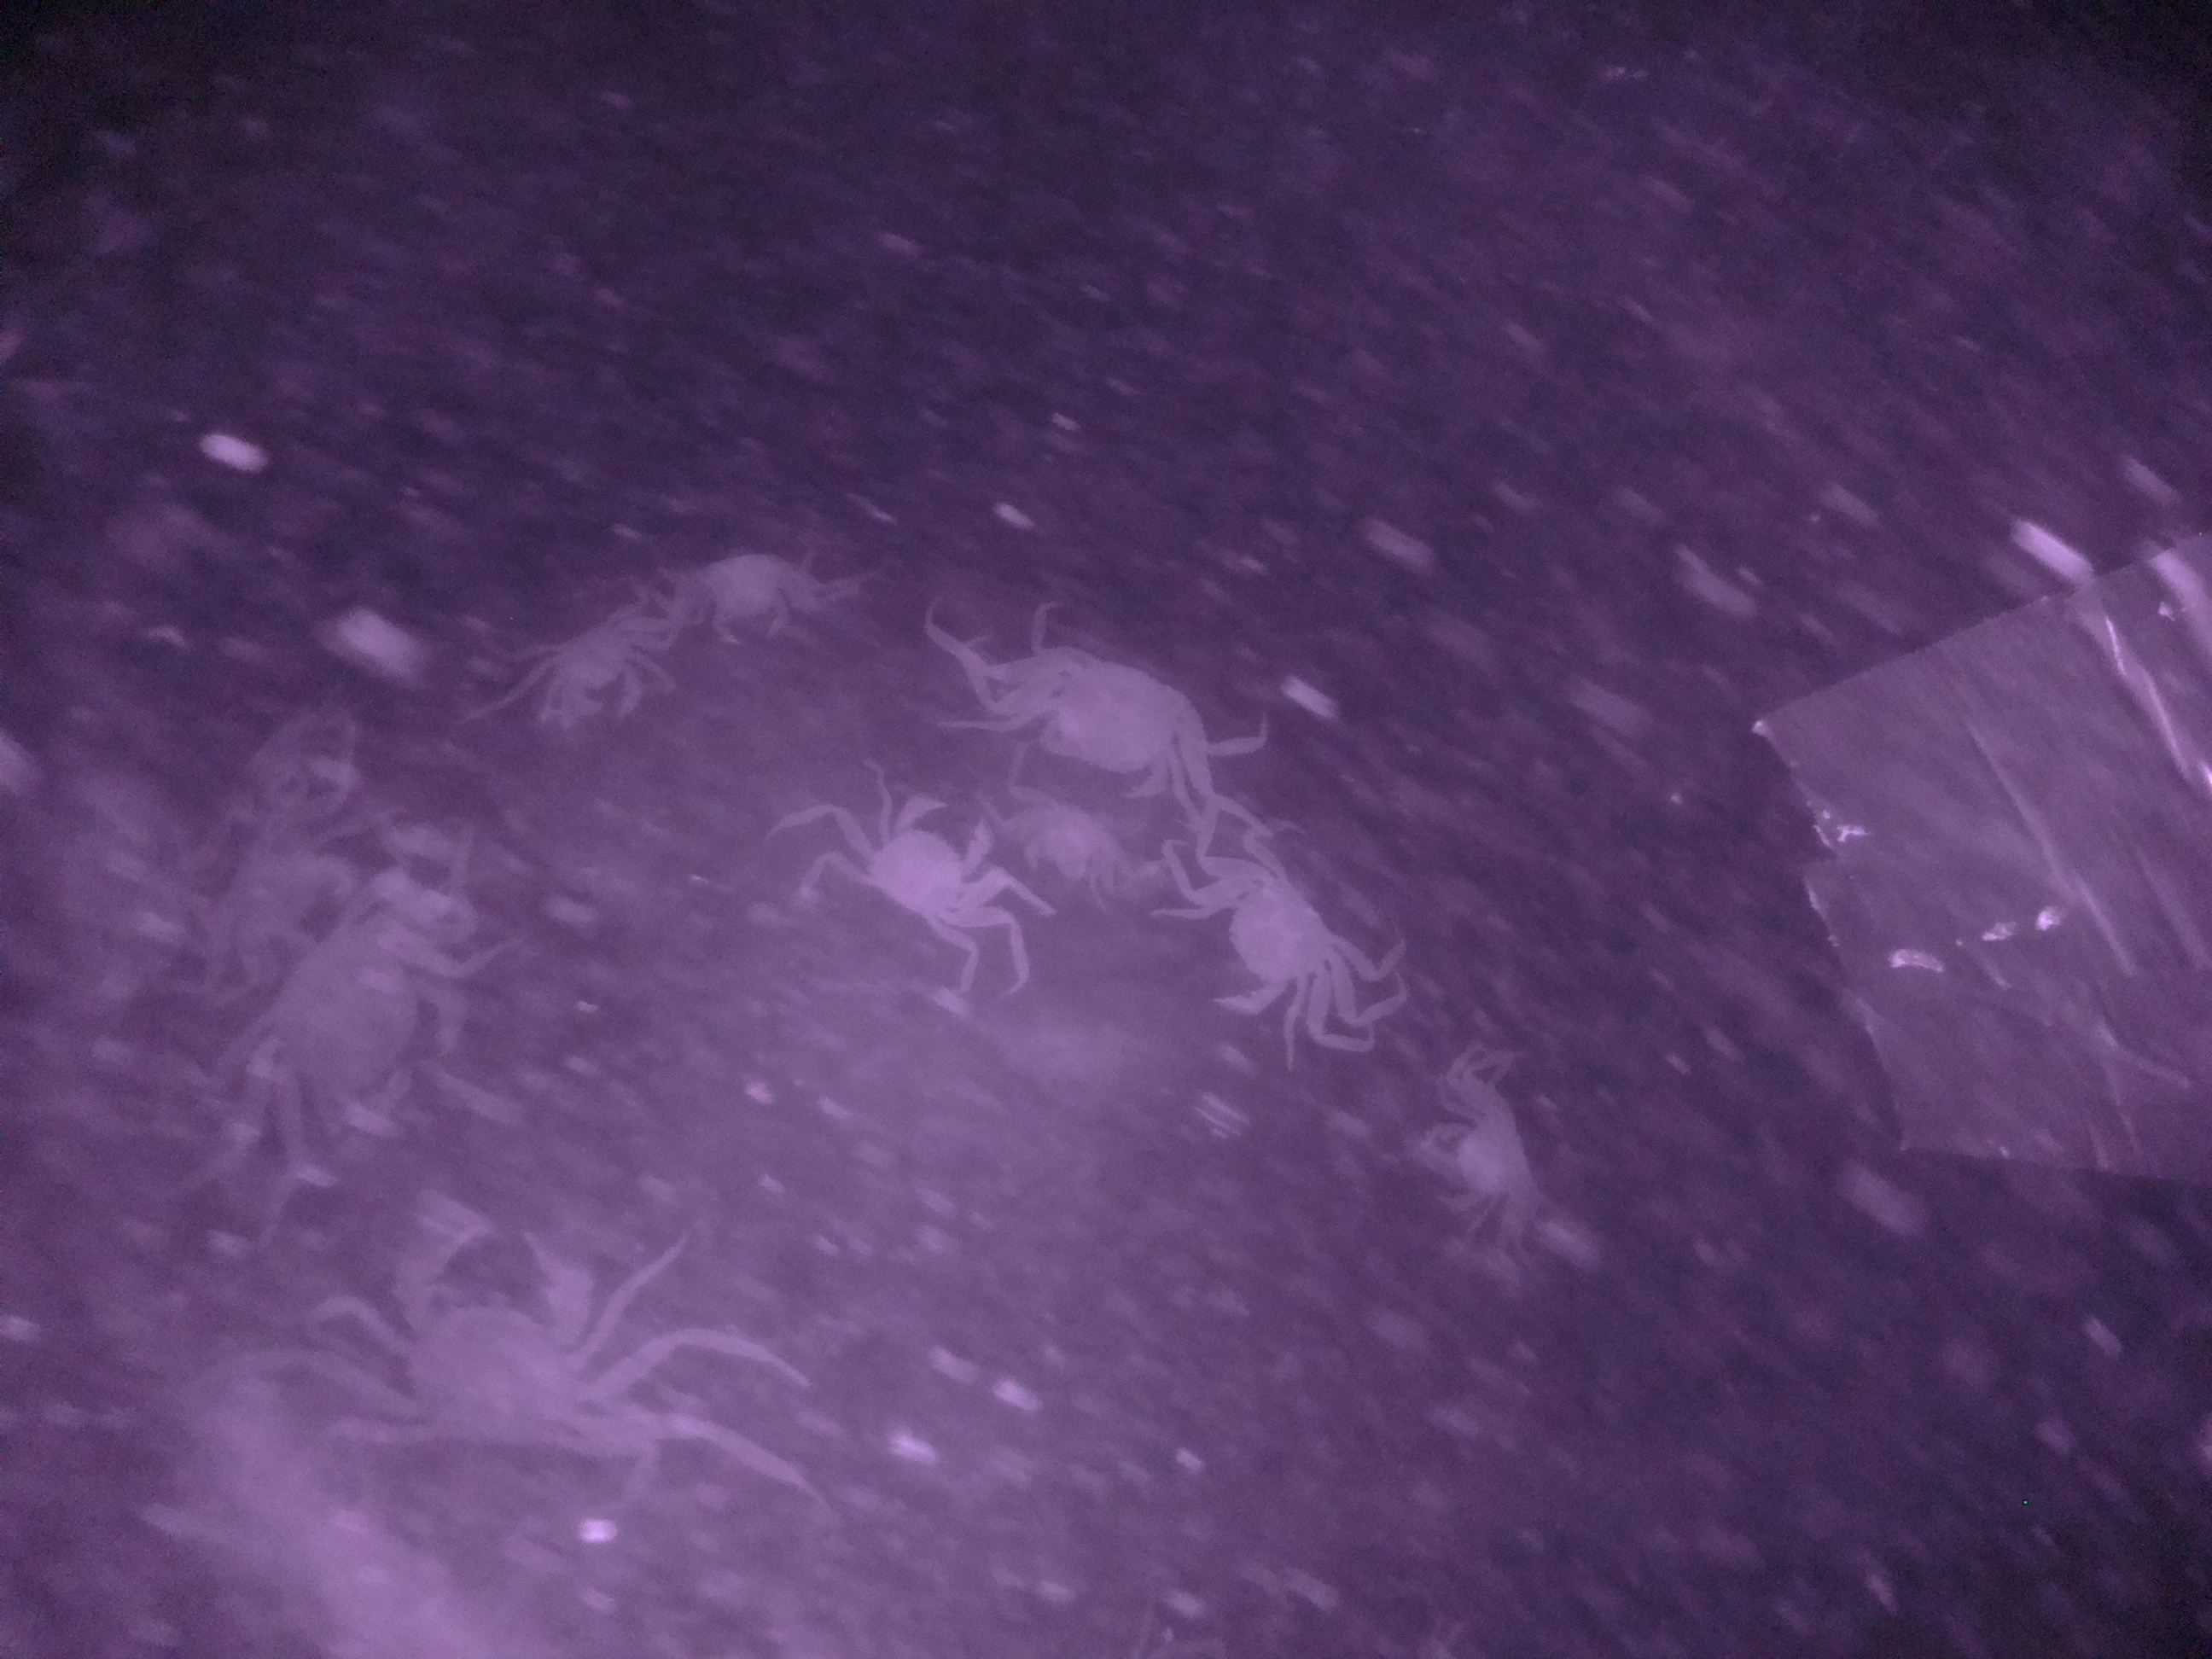Crab: (974, 619, 1226, 817), (1160, 828, 1374, 1030), (822, 772, 1040, 953), (526, 596, 672, 748), (671, 542, 834, 653)
